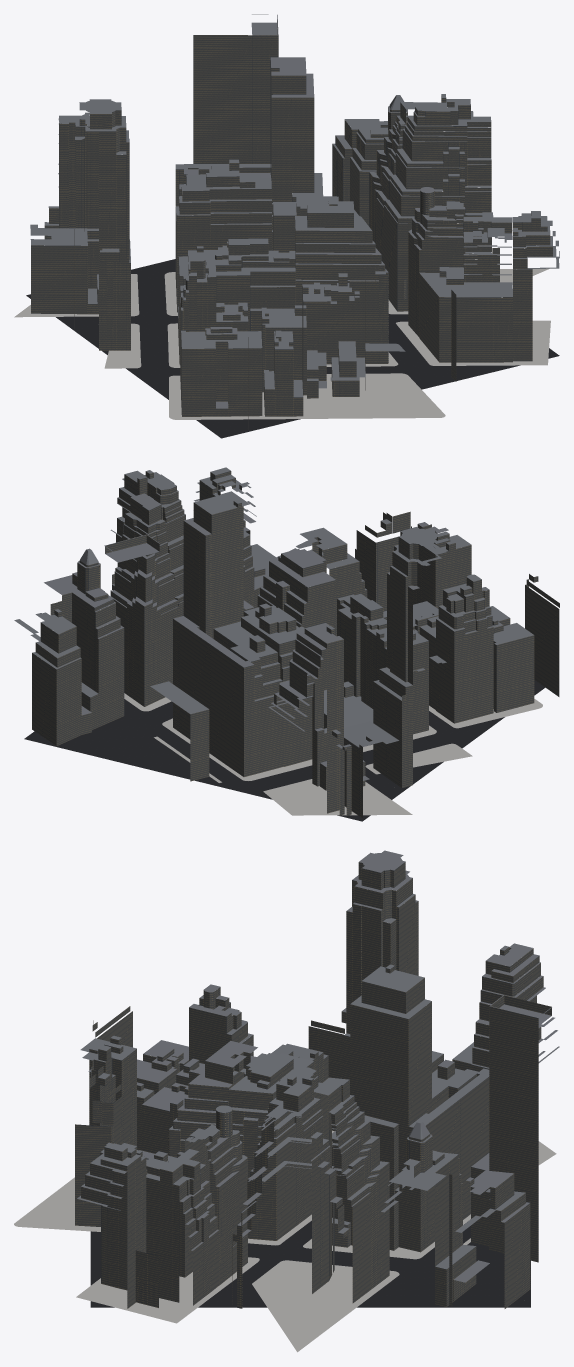
3 renders of one model, top to bottom at view 1: azimuth 30°, elevation 25°; view 2: azimuth 150°, elevation 25°; view 3: azimuth 270°, elevation 25°, orthographic. The views are drawn at different scales.
Visible parts, largest first — view 1: t2_7, detail; view 2: t2_7, detail; view 3: t2_7, detail.
Part boxes in pixels (x1,y1,x2,y2): t2_7: (26,14,559,438); detail: (14,268,550,419); t2_7: (14,467,559,821); detail: (124,693,542,815); t2_7: (75,850,559,1308); detail: (14,1130,556,1352).
Size of the model in its own units: 334 by 167 by 310.
4 materials, 2 textured.
